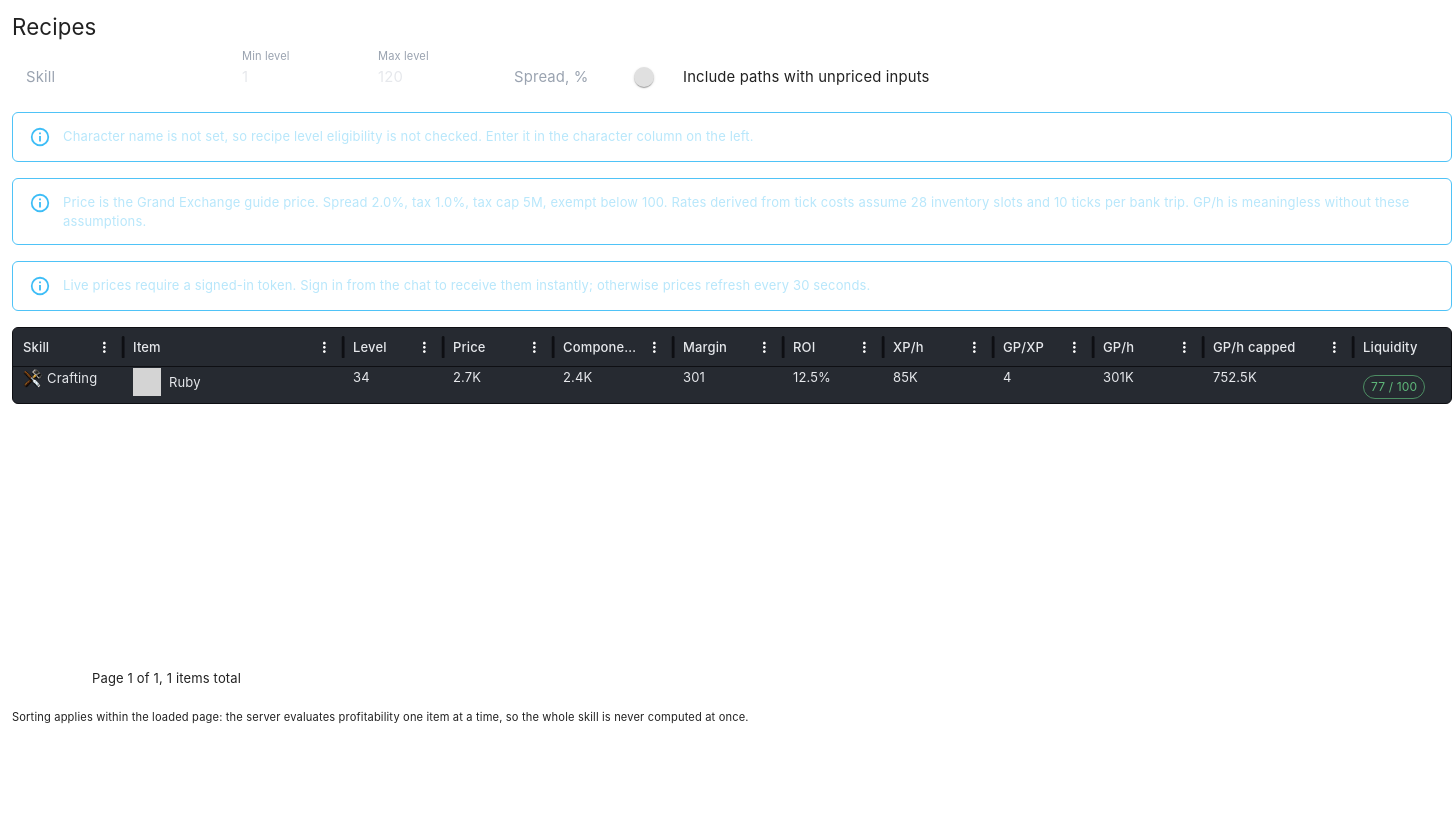
Test: breaks the craft down step by step when the item name is hovered
Click the dropdown named "Skill". click: point(112, 77)
box: [12, 58, 212, 96]
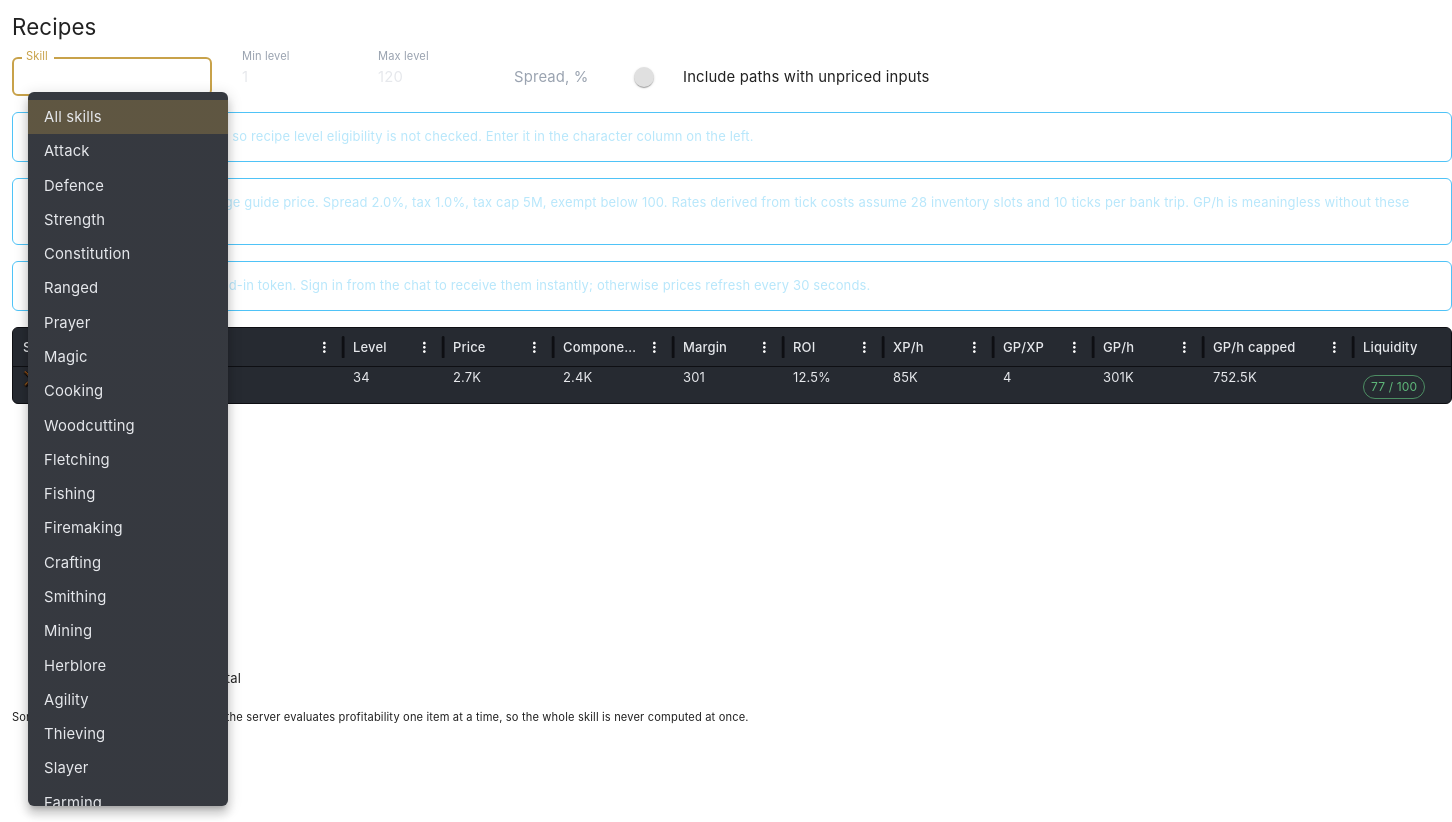
Click the option "Crafting". click: point(73, 563)
box: [44, 554, 101, 572]
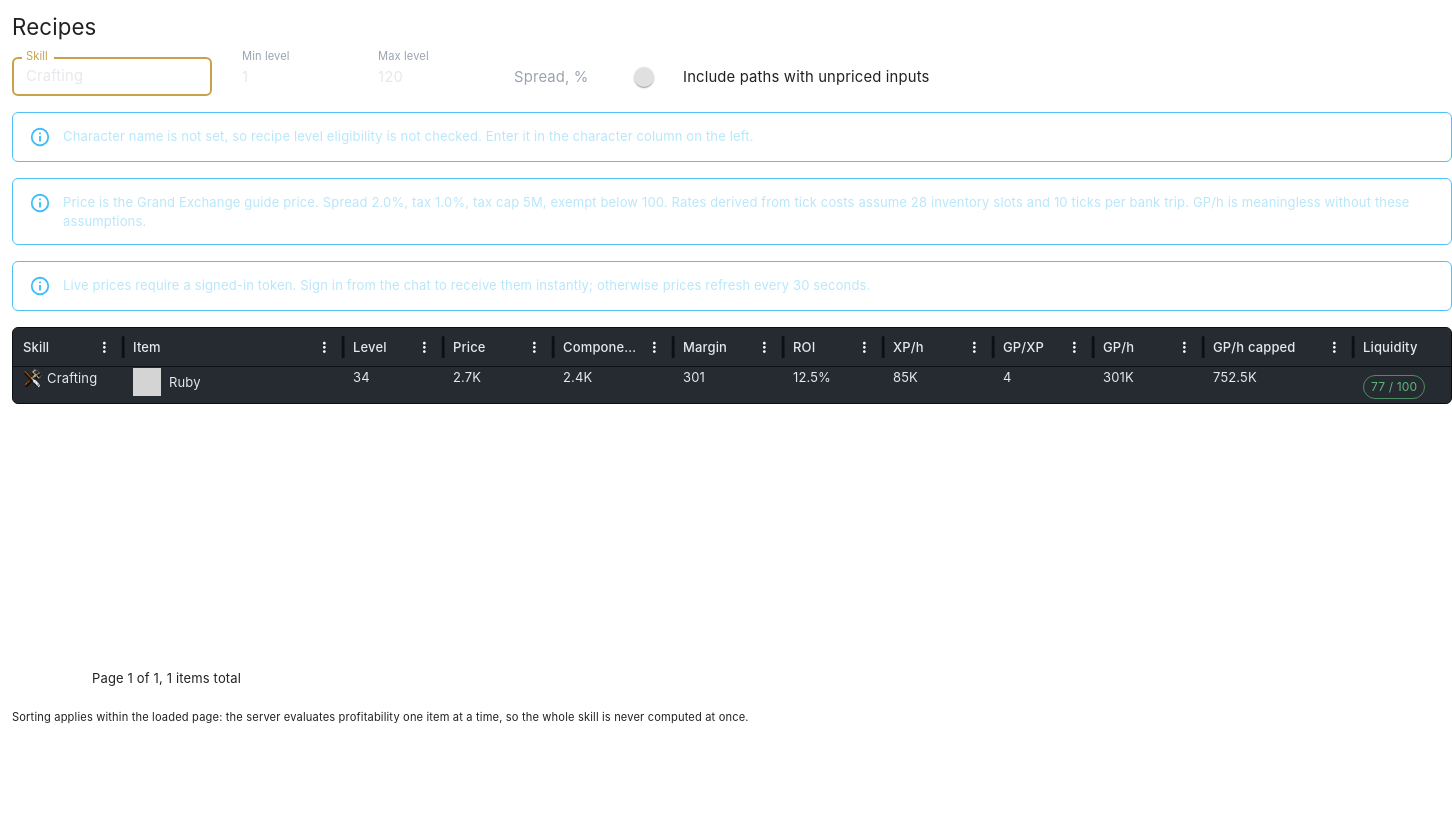
Check: the text "12.5%" is shown, box [793, 369, 831, 385]
Hover over the text "Ruby" at point(185, 382), box [169, 373, 201, 392]
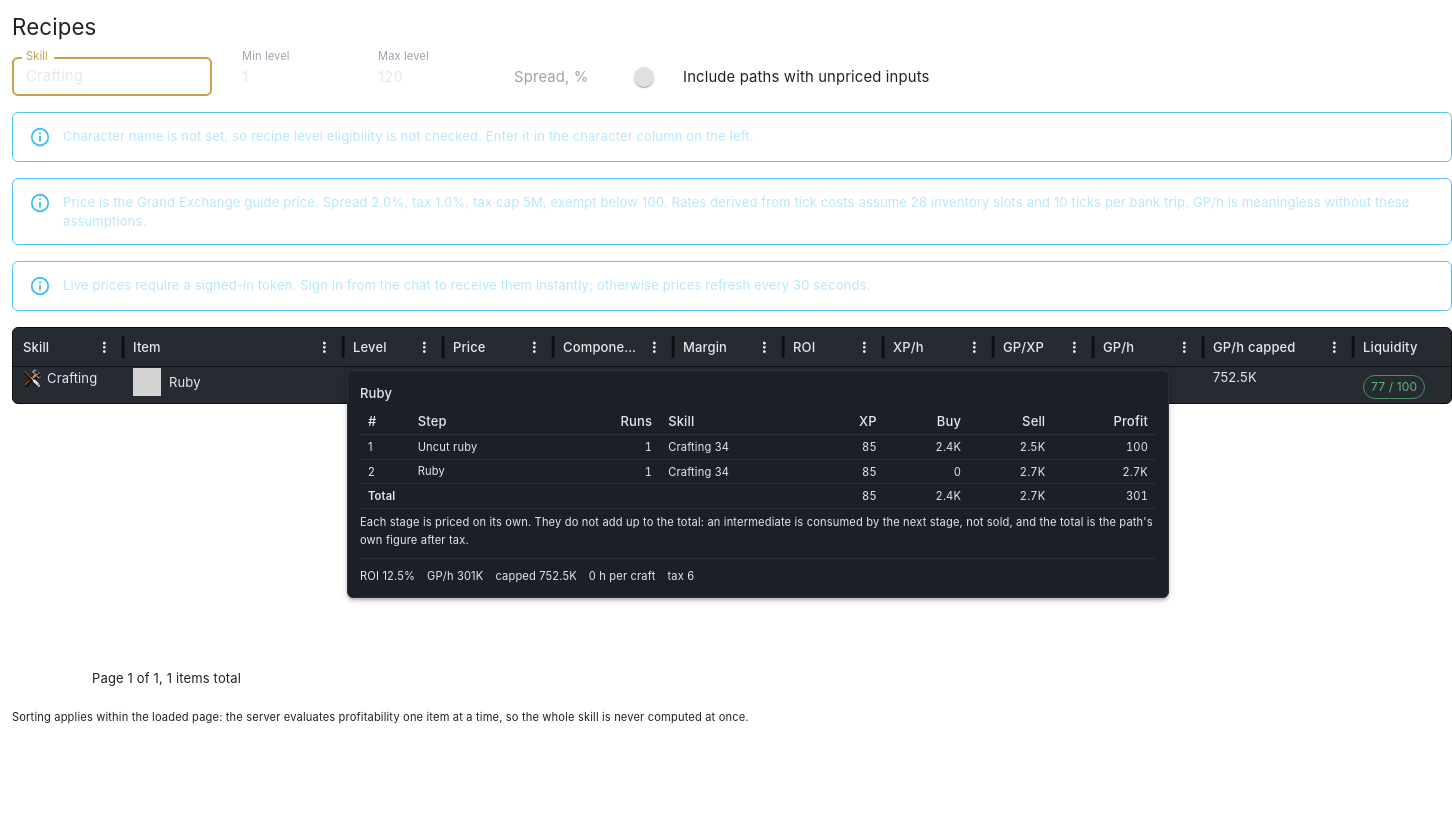
Check: the cell "Uncut ruby" is shown, box [410, 435, 563, 459]
Check: the cell "100" is shown, box [1053, 435, 1156, 459]
Check: the cell "301" is shown, box [1053, 484, 1156, 508]
